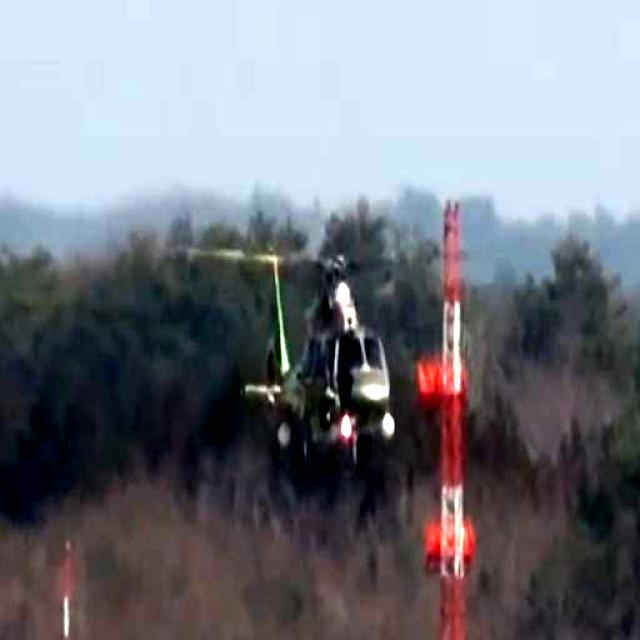drone: (204, 235, 420, 479)
